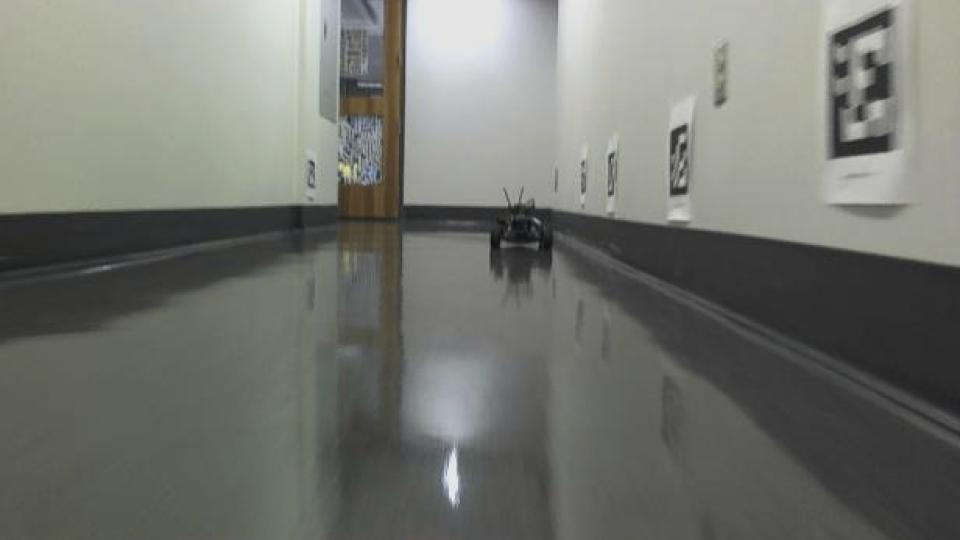car: (484, 183, 554, 256)
